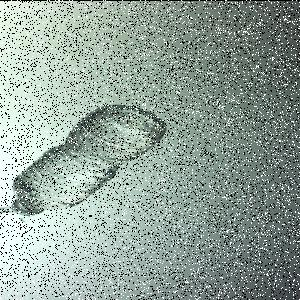Plastic-bottle: (3, 103, 171, 217)
